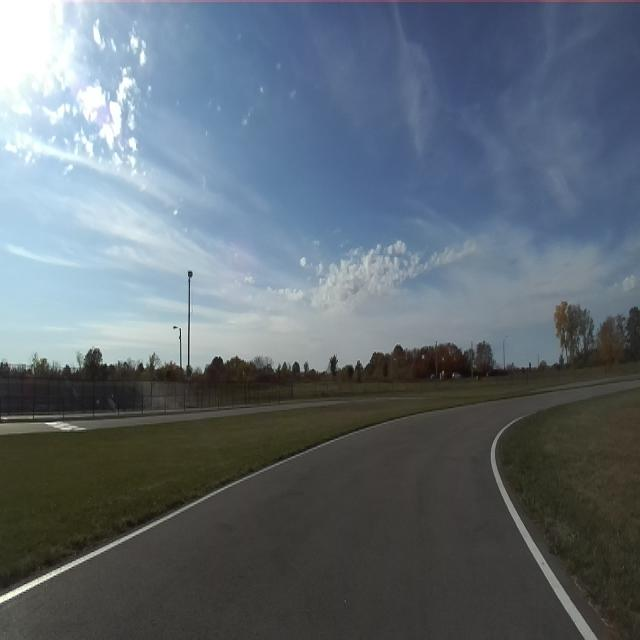white-line: (0, 411, 430, 606), (490, 416, 598, 639)
